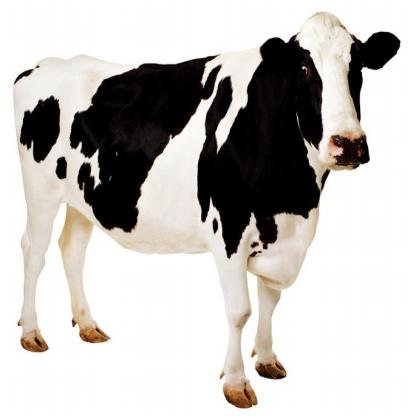cow: (14, 11, 400, 406)
